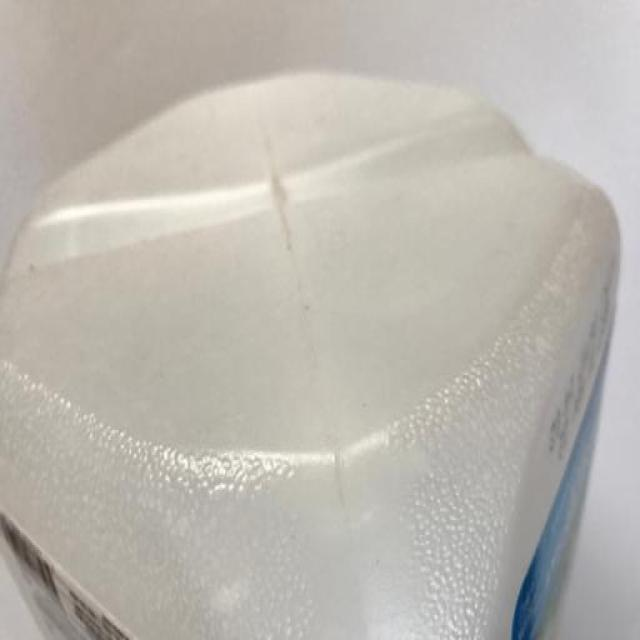plastic: (0, 66, 621, 638)
